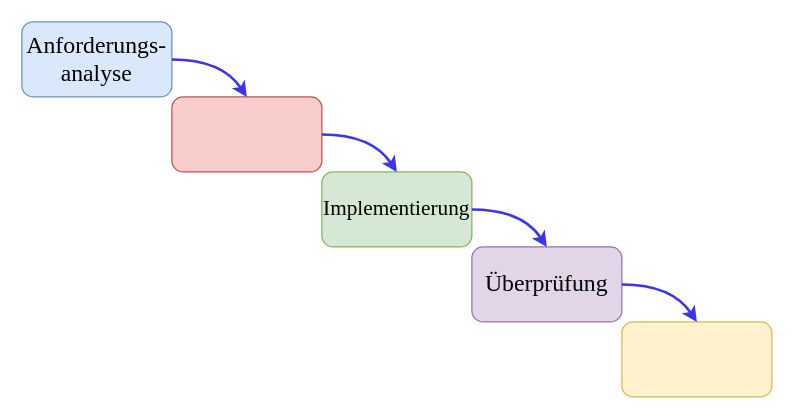
This 794x419 diagram has some shape labels left out. Here are the shapes that lost their labels. From the top down, the centre of each, then its label:
At pixel 246 134: "Entwurf".
At pixel 696 359: "Wartung".
